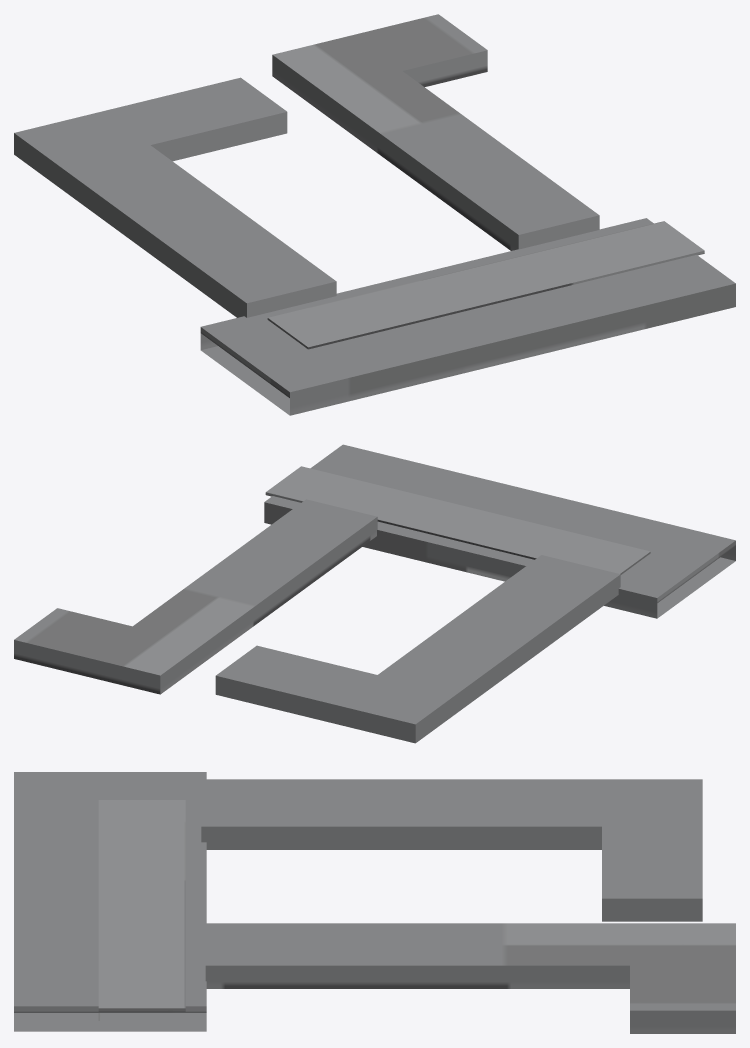
The picture shows the model from 3 angles, top to bottom: view 1: azimuth 30°, elevation 25°; view 2: azimuth 150°, elevation 25°; view 3: azimuth 270°, elevation 25°; orthographic projection. The views are drawn at different scales.
Bounding box in the file's own units: 1.08 × 0.081 × 1.29.
